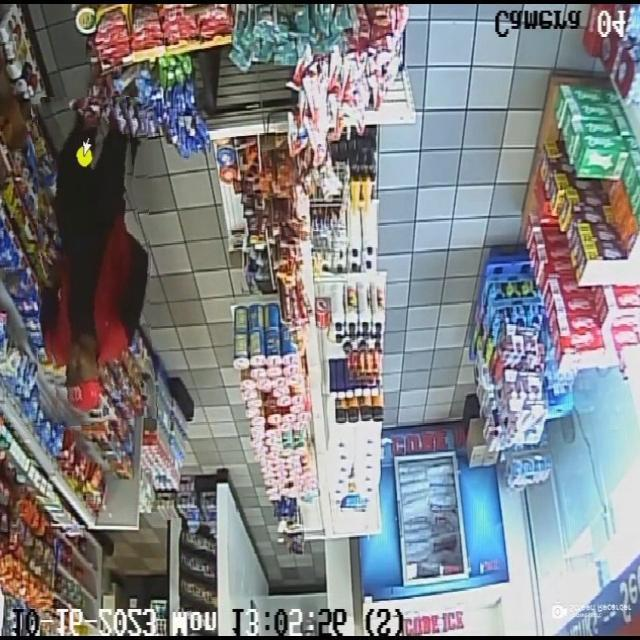Normal: (38, 97, 152, 425)
